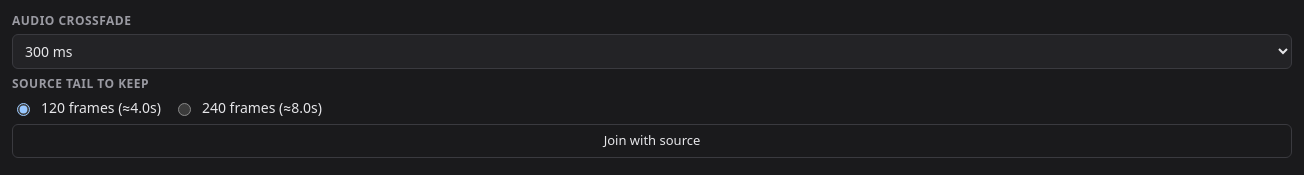
it: JoinControls › V2V Join note: source fps differs -> 'did not match' body carries both fps, no advice when project==video
Click the button "Join with source": (652, 141) 12,124 -> 1292,158
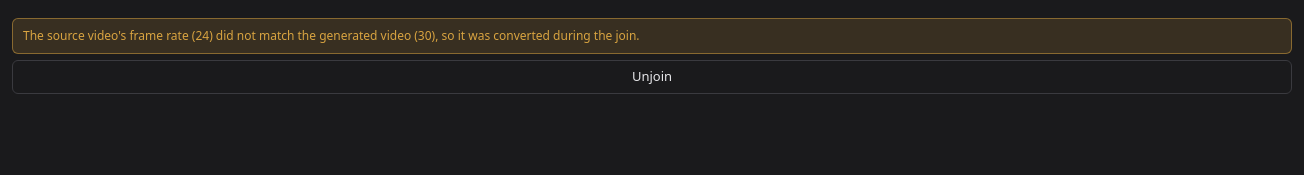
Now the text "did not match" shows "24", box 23,27 -> 640,44
Now the text "did not match" shows "30", box 23,27 -> 640,44
